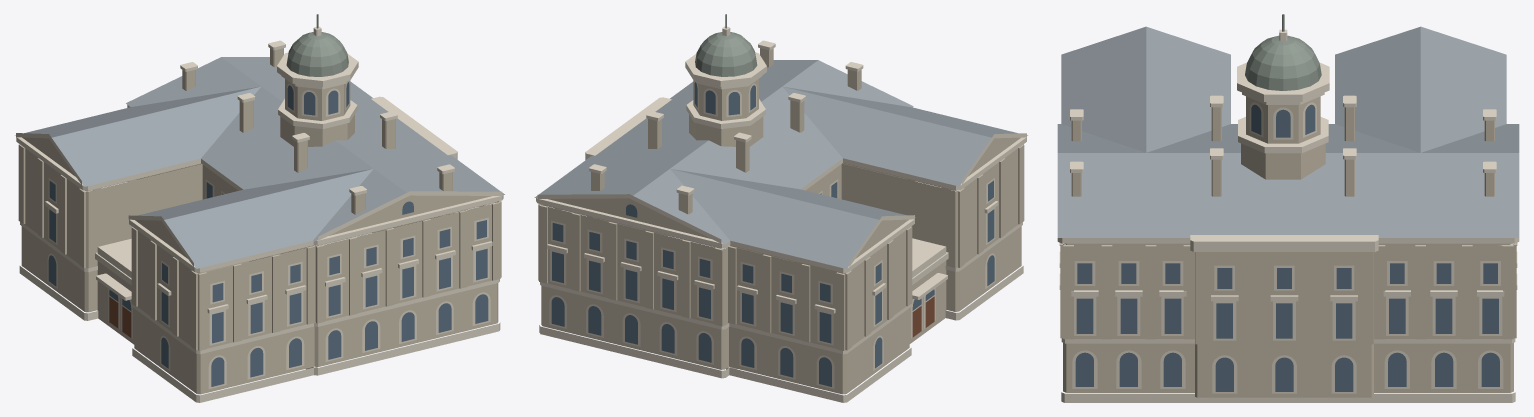
Rendered from pdx-pioneer-courthouse.glb.
3 renders of one model, left to right at view 1: azimuth 30°, elevation 25°; view 2: azimuth 150°, elevation 25°; view 3: azimuth 270°, elevation 25°, orthographic. The views are drawn at different scales.
Parts seen in each view (by area): view 1: Pioneer Courthouse; view 2: Pioneer Courthouse; view 3: Pioneer Courthouse.
Boxes of the visible parts, left/top/right/bottom form: Pioneer Courthouse: left=15, top=14, right=504, bottom=402; Pioneer Courthouse: left=534, top=14, right=1027, bottom=402; Pioneer Courthouse: left=1057, top=14, right=1519, bottom=402.
Bounding box in the file's own units: 38.8 × 32 × 40.3.
